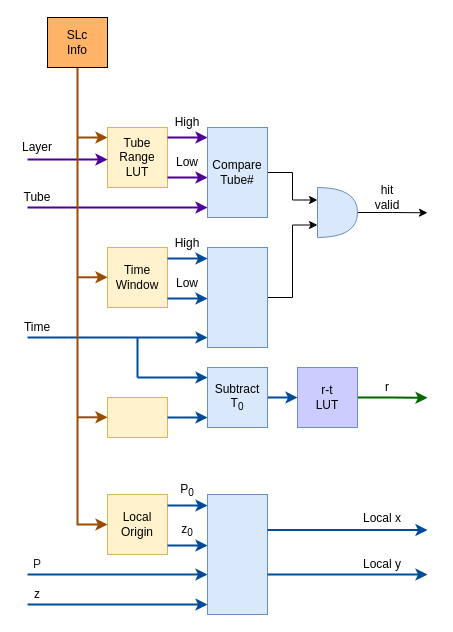
This 453x632 diagram has some shape labels left out. The shapes that lost their labels are listed below. From the top down, each one's box as (x1, y1, x2, y2) in pixels, then its label:
(316, 186, 358, 238): AND
(206, 246, 268, 348): Compare Time
(106, 396, 168, 438): T 0
(206, 494, 268, 614): Subtract Offset
